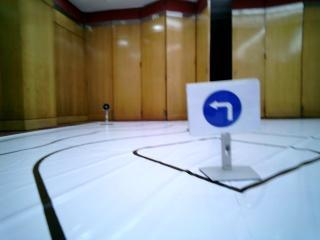left: (189, 85, 258, 128)
